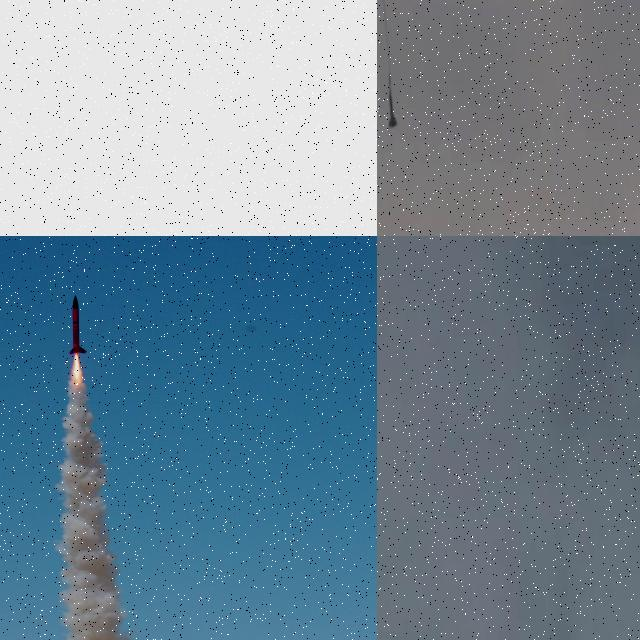Rocket: (69, 294, 87, 354), (389, 91, 396, 127)
